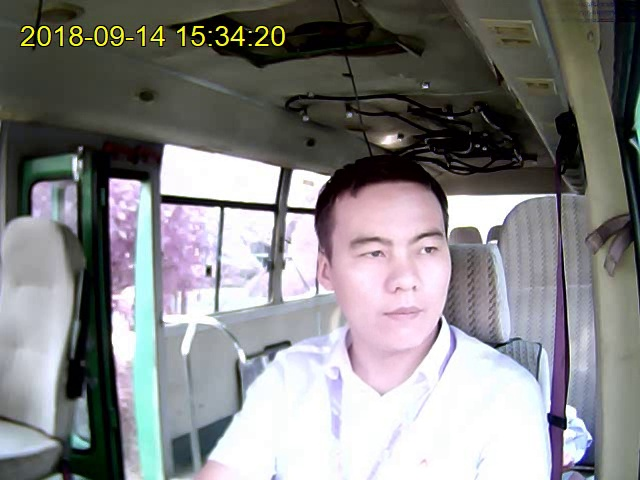closed_mouth: (381, 303, 424, 322)
open_eye: (416, 245, 442, 259), (356, 249, 384, 261)
